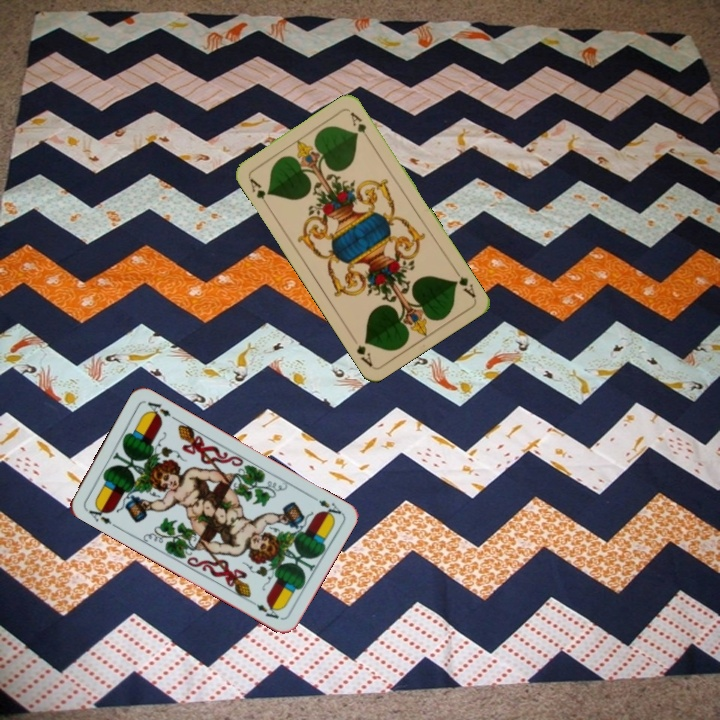EA: (81, 501, 119, 530), (306, 492, 344, 521)
GA: (245, 173, 272, 210), (450, 265, 478, 300)
